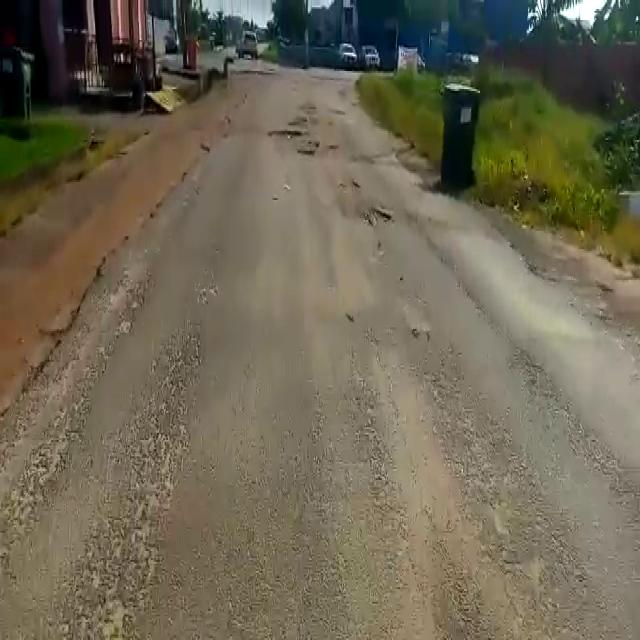Pothole: (366, 206, 392, 227), (269, 127, 305, 142)
